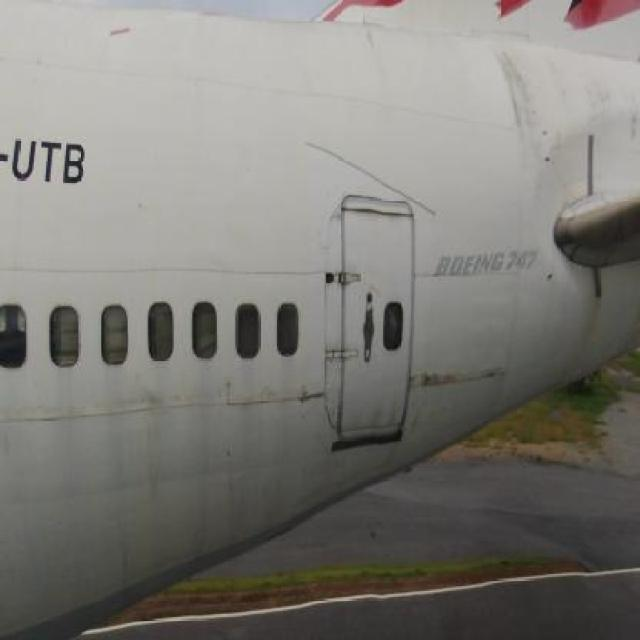Rust: (494, 45, 552, 167), (580, 63, 640, 139), (414, 362, 506, 404), (577, 268, 608, 372), (340, 195, 417, 236), (356, 386, 407, 439)
Scartch: (133, 374, 179, 546), (283, 379, 331, 423), (217, 374, 245, 424)
